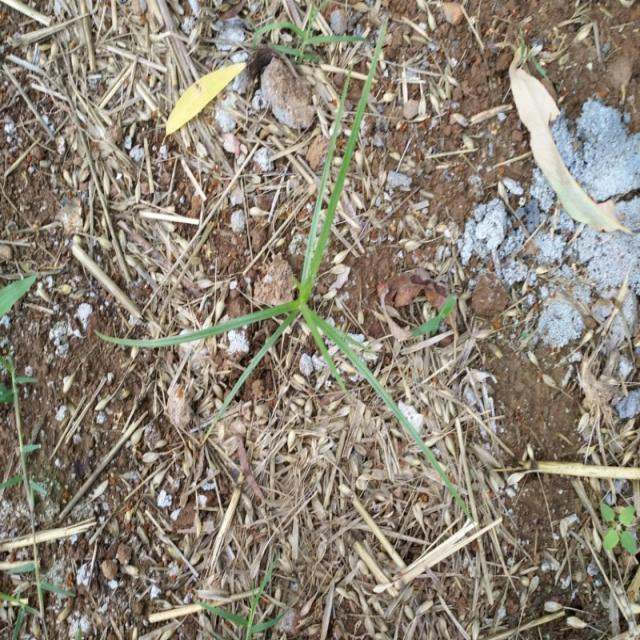sedge: (112, 139, 442, 514)
